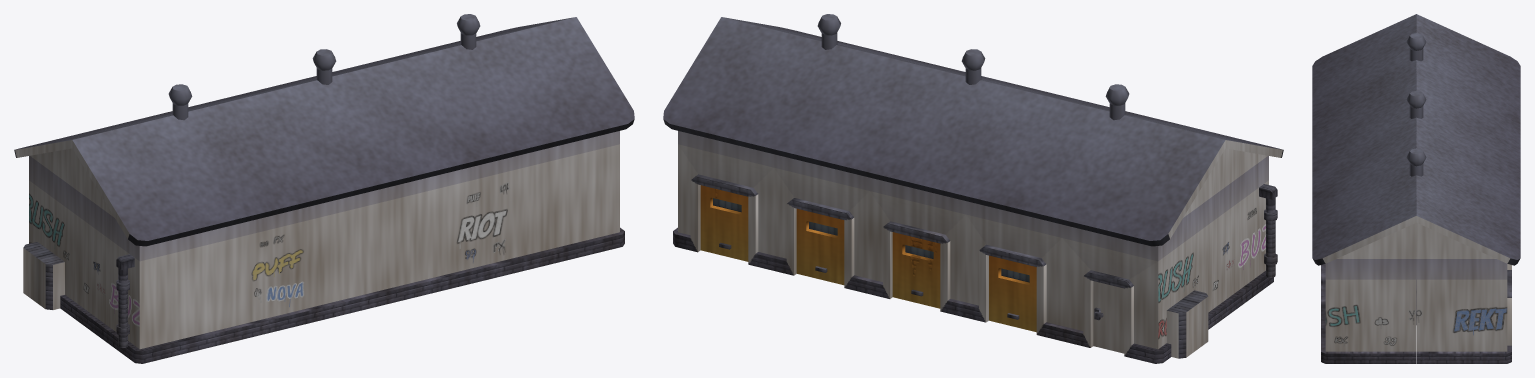
File: building-s-white-scuffed.glb
3 renders of one model, left to right at view 1: azimuth 30°, elevation 25°; view 2: azimuth 150°, elevation 25°; view 3: azimuth 270°, elevation 25°, orthographic. The views are drawn at different scales.
Parts seen in each view (by area): view 1: building-s; view 2: building-s; view 3: building-s.
Part boxes in pixels (x1=…): building-s: x1=14, y1=14, x2=634, y2=363; building-s: x1=663, y1=14, x2=1283, y2=363; building-s: x1=1312, y1=14, x2=1520, y2=363.
Bounding box in the file's own units: 2.12 × 0.8368 × 0.9163.
1 material, 1 textured.
